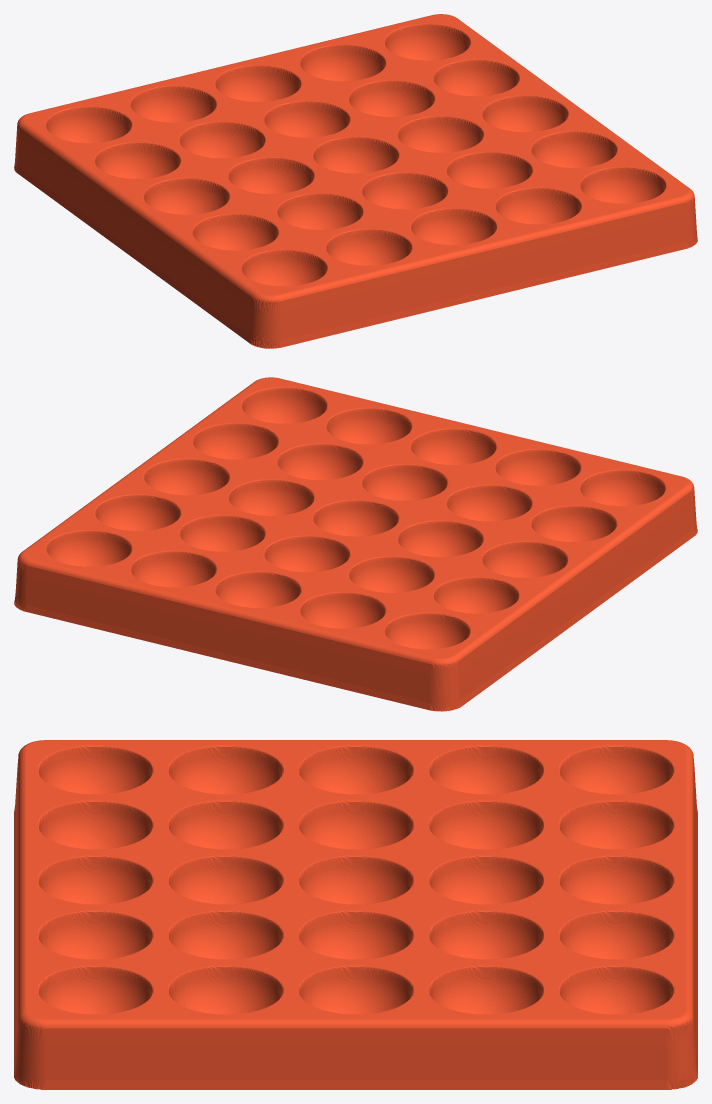
File: mold.glb
3 renders of one model, top to bottom at view 1: azimuth 30°, elevation 25°; view 2: azimuth 150°, elevation 25°; view 3: azimuth 270°, elevation 25°, orthographic. The views are drawn at different scales.
Visible parts, largest first — view 1: geometry_0; view 2: geometry_0; view 3: geometry_0.
Boxes of the visible parts, x1,y1,x2,y2 form: geometry_0: (14, 14, 697, 348); geometry_0: (14, 377, 697, 711); geometry_0: (14, 740, 697, 1089).
Size of the model in its own units: 0.193 by 0.0204 by 0.193.
